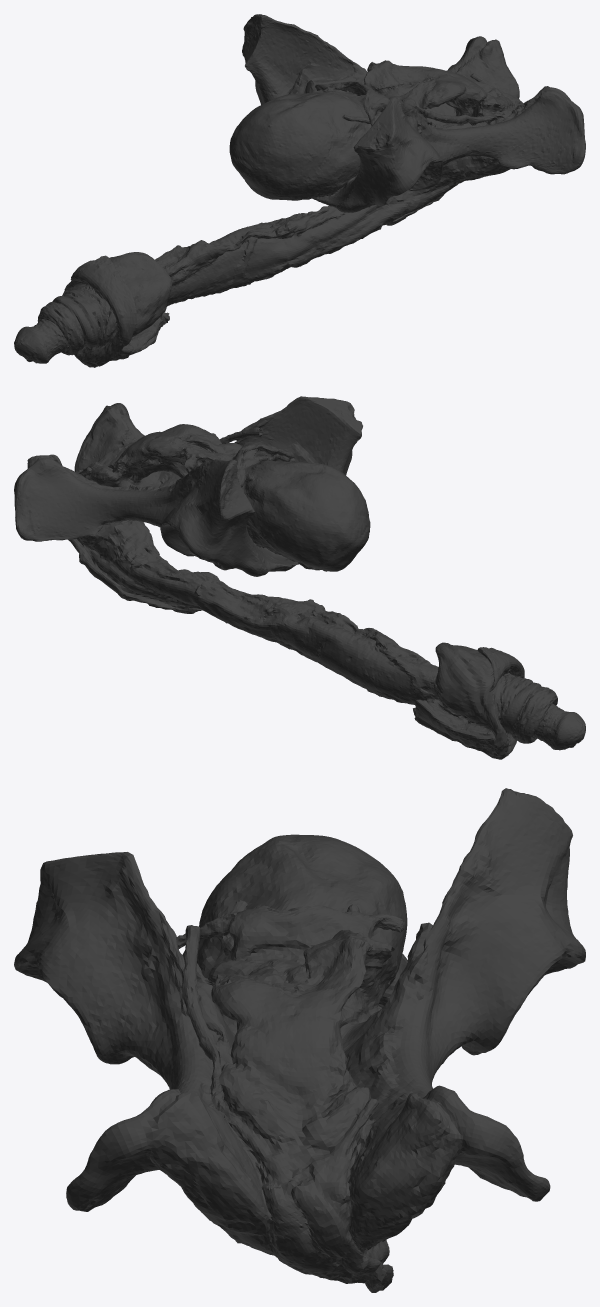
File: projected.glb
The picture shows the model from 3 angles, top to bottom: view 1: azimuth 30°, elevation 25°; view 2: azimuth 150°, elevation 25°; view 3: azimuth 270°, elevation 25°; orthographic projection. The views are drawn at different scales.
Visible parts, largest first — view 1: projected; view 2: projected; view 3: projected.
Boxes of the visible parts, x1,y1,x2,y2 form: projected: [14, 14, 585, 367]; projected: [14, 396, 585, 759]; projected: [14, 788, 585, 1292].
Size of the model in its own units: 0.2649 by 0.131 by 0.1321.
Materials: 1 (1 with a texture image).
